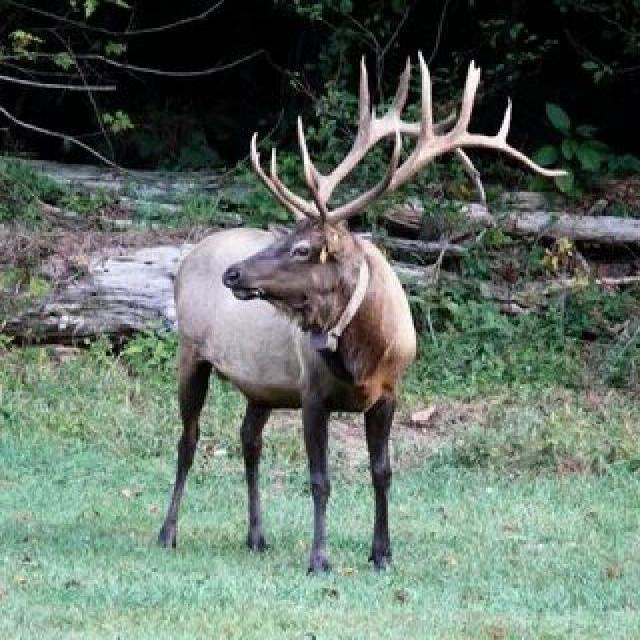deer: (138, 65, 518, 548)
